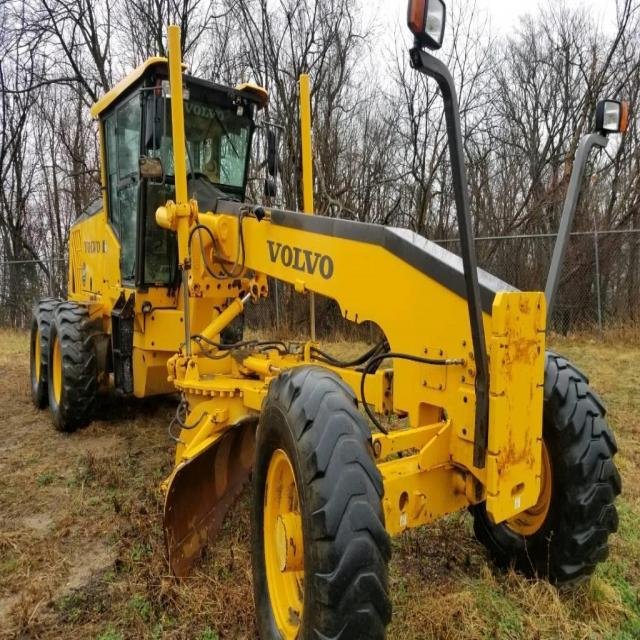Grader: (24, 48, 625, 638)
